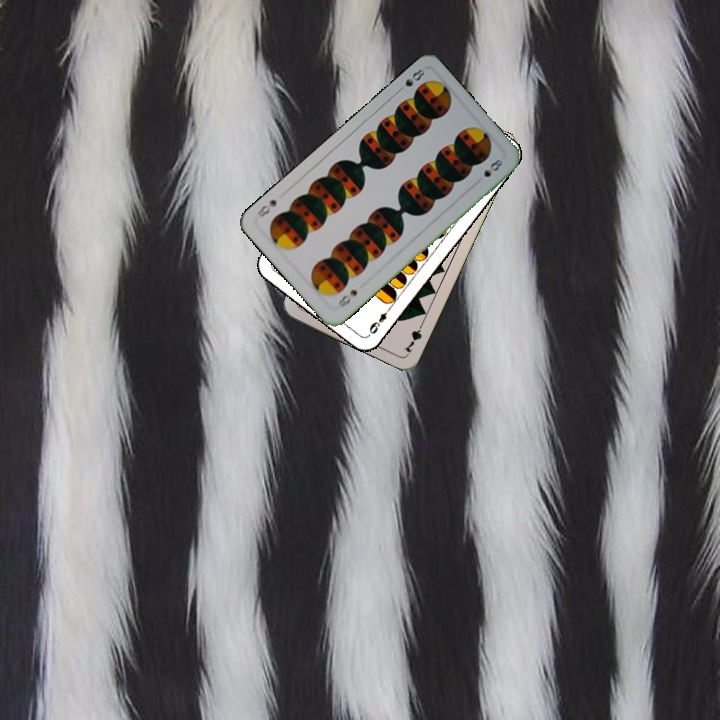E9: (365, 303, 394, 338)
G7: (400, 317, 426, 355)
S8: (393, 65, 427, 96), (333, 286, 360, 312)
